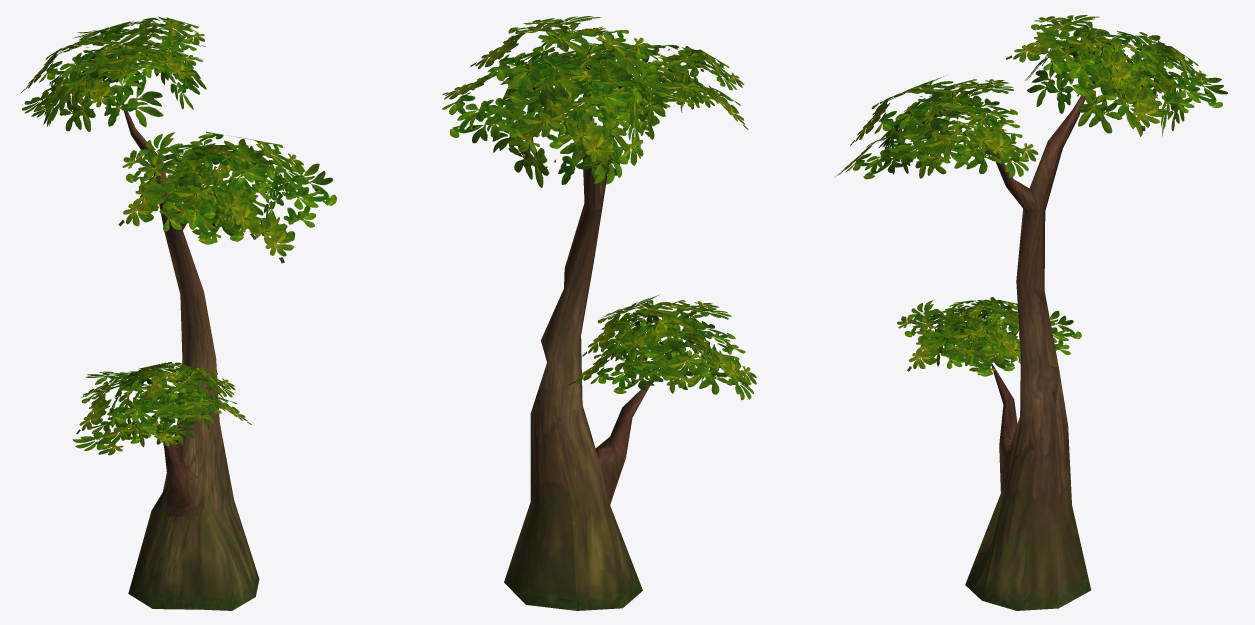
File: environment_Tree_Green_005_d.FBX
3 renders of one model, left to right at view 1: azimuth 30°, elevation 25°; view 2: azimuth 150°, elevation 25°; view 3: azimuth 270°, elevation 25°, orthographic. The views are drawn at different scales.
Parts seen in each view (by area): view 1: environment_Tree_Green_005_b, environment_Tree_Green_005_a; view 2: environment_Tree_Green_005_b, environment_Tree_Green_005_a; view 3: environment_Tree_Green_005_b, environment_Tree_Green_005_a.
Boxes of the visible parts, <box> form: environment_Tree_Green_005_b: <box>20,16,336,455</box>; environment_Tree_Green_005_a: <box>122,103,259,610</box>; environment_Tree_Green_005_b: <box>442,16,756,400</box>; environment_Tree_Green_005_a: <box>504,105,649,610</box>; environment_Tree_Green_005_b: <box>834,15,1227,376</box>; environment_Tree_Green_005_a: <box>965,90,1090,610</box>.
Size of the model in its own units: 552 by 1167 by 830.
2 materials, 2 textured.
